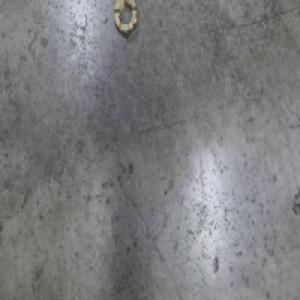Nut: (112, 0, 139, 36)
